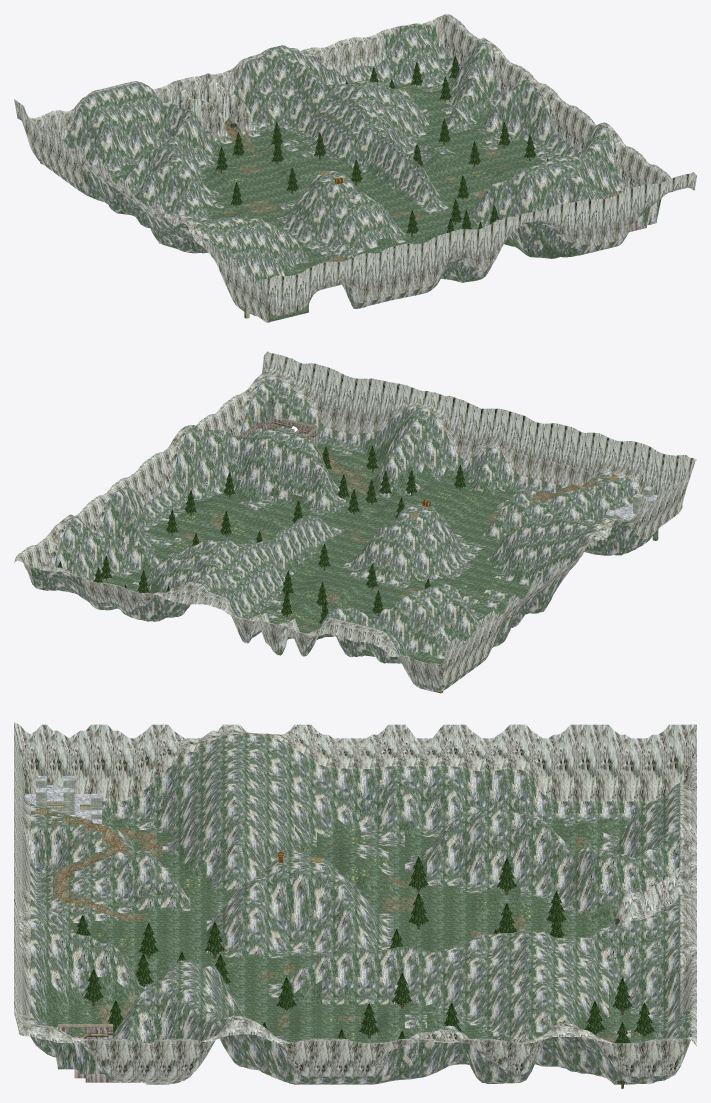
The model's file is stouttp.glb.
3 views of the same model, one above another, from view 1: azimuth 30°, elevation 25°; view 2: azimuth 150°, elevation 25°; view 3: azimuth 270°, elevation 25° (orthographic). The views are drawn at different scales.
Visible parts, largest first — view 1: Mesh_1.019, Mesh_2.019, Mesh_0.019, Mesh_5.019, Mesh_3.019; view 2: Mesh_1.019, Mesh_2.019, Mesh_0.019, Mesh_5.019, Mesh_3.019, Mesh_6.019; view 3: Mesh_1.019, Mesh_2.019, Mesh_0.019, Mesh_5.019, Mesh_3.019, Mesh_4.019, Mesh_7.019, Mesh_9.019, Mesh_6.019.
Part boxes in pixels (x1,y1,x2,y2): Mesh_1.019: (33,23,661,311); Mesh_2.019: (14,14,696,322); Mesh_0.019: (87,80,613,322); Mesh_5.019: (112,88,617,260); Mesh_3.019: (111,85,537,272); Mesh_1.019: (30,376,653,691); Mesh_2.019: (14,351,696,688); Mesh_0.019: (106,437,682,691); Mesh_5.019: (93,452,609,663); Mesh_3.019: (174,457,500,663); Mesh_6.019: (238,418,317,446); Mesh_1.019: (30,734,691,1084); Mesh_2.019: (14,722,696,1083); Mesh_0.019: (25,782,658,1082); Mesh_5.019: (47,811,614,1042); Mesh_3.019: (58,823,641,1077); Mesh_4.019: (58,818,157,1023); Mesh_7.019: (25,776,101,823); Mesh_9.019: (36,780,101,824); Mesh_6.019: (58,1027,146,1082).
Bounding box in the file's own units: 124 × 19.39 × 124.
Materials: 24 (24 with a texture image).
